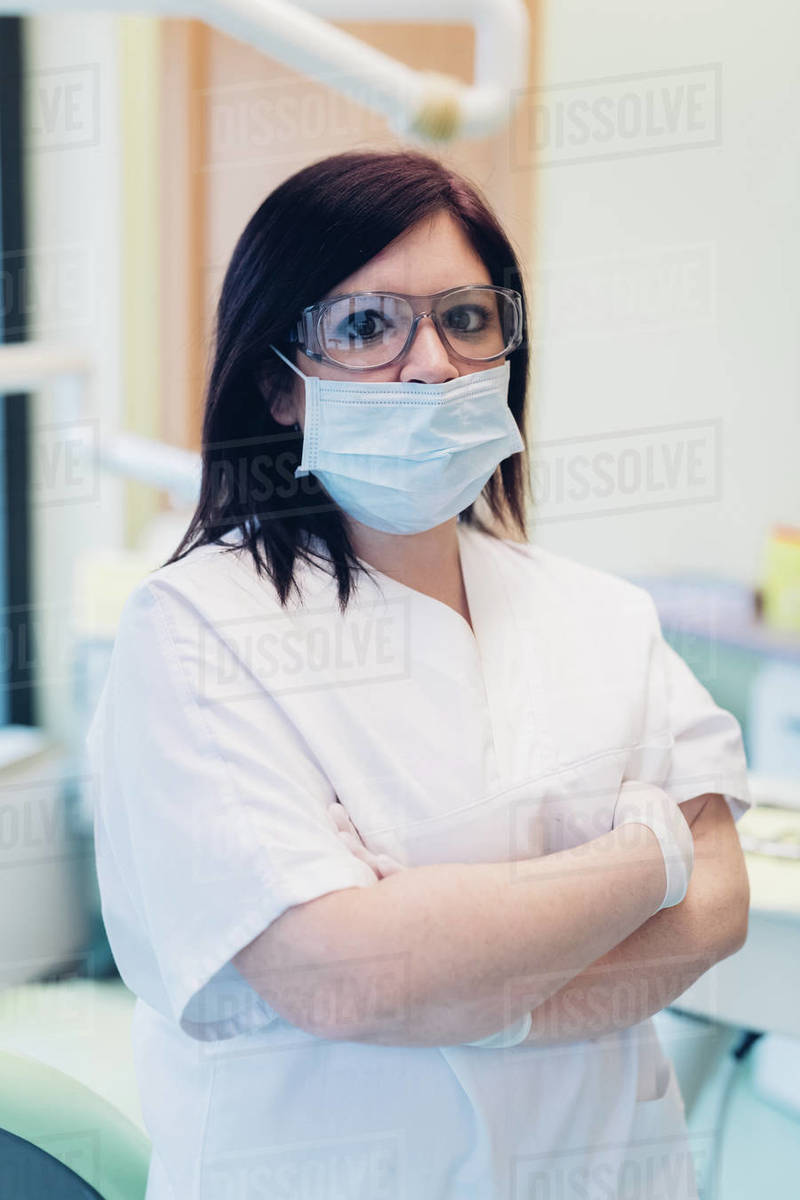mask_weared_incorrect: (243, 246, 540, 552)
